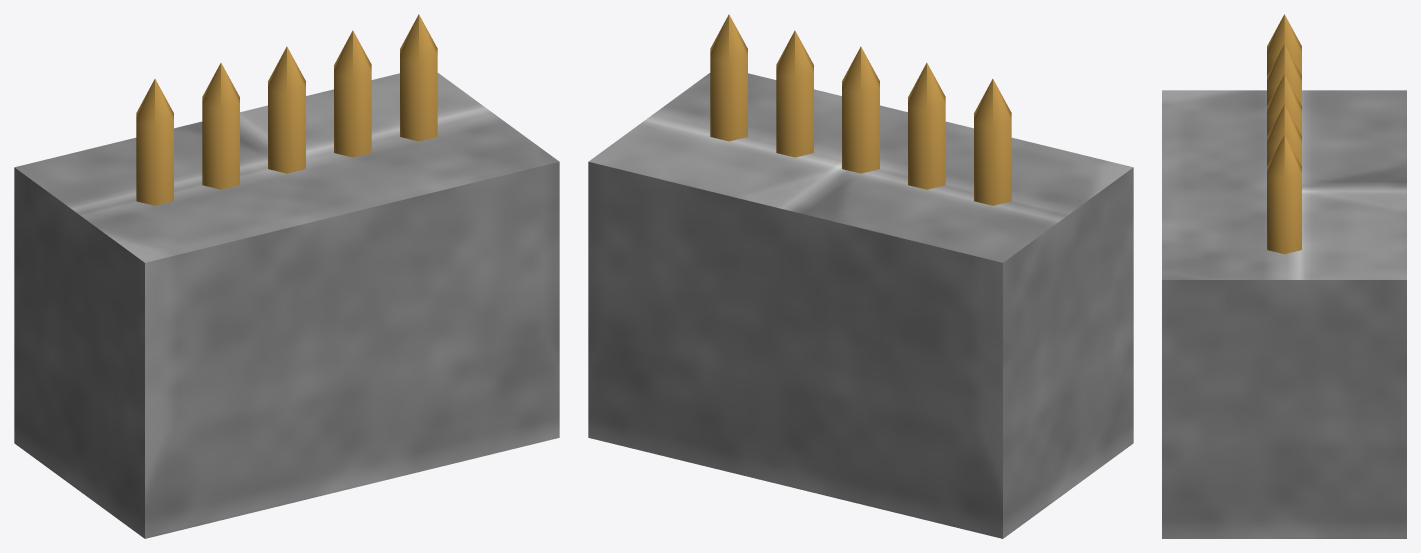
The model's file is ammo.obj.
3 renders of one model, left to right at view 1: azimuth 30°, elevation 25°; view 2: azimuth 150°, elevation 25°; view 3: azimuth 270°, elevation 25°, orthographic. The views are drawn at different scales.
Size of the model in its own units: 0.44 by 0.4 by 0.24.
2 materials, 1 textured.
